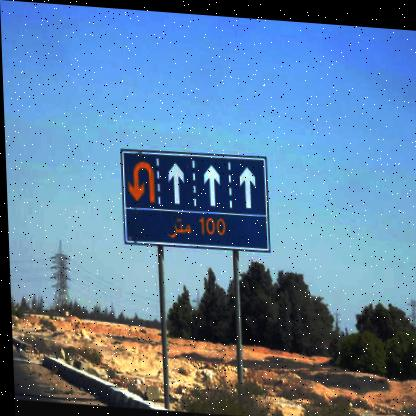U-turn: (119, 148, 155, 204)
